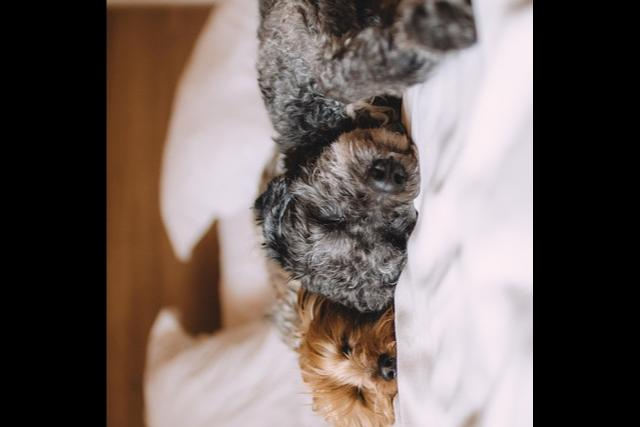Non_Gorille: (129, 0, 499, 427)
